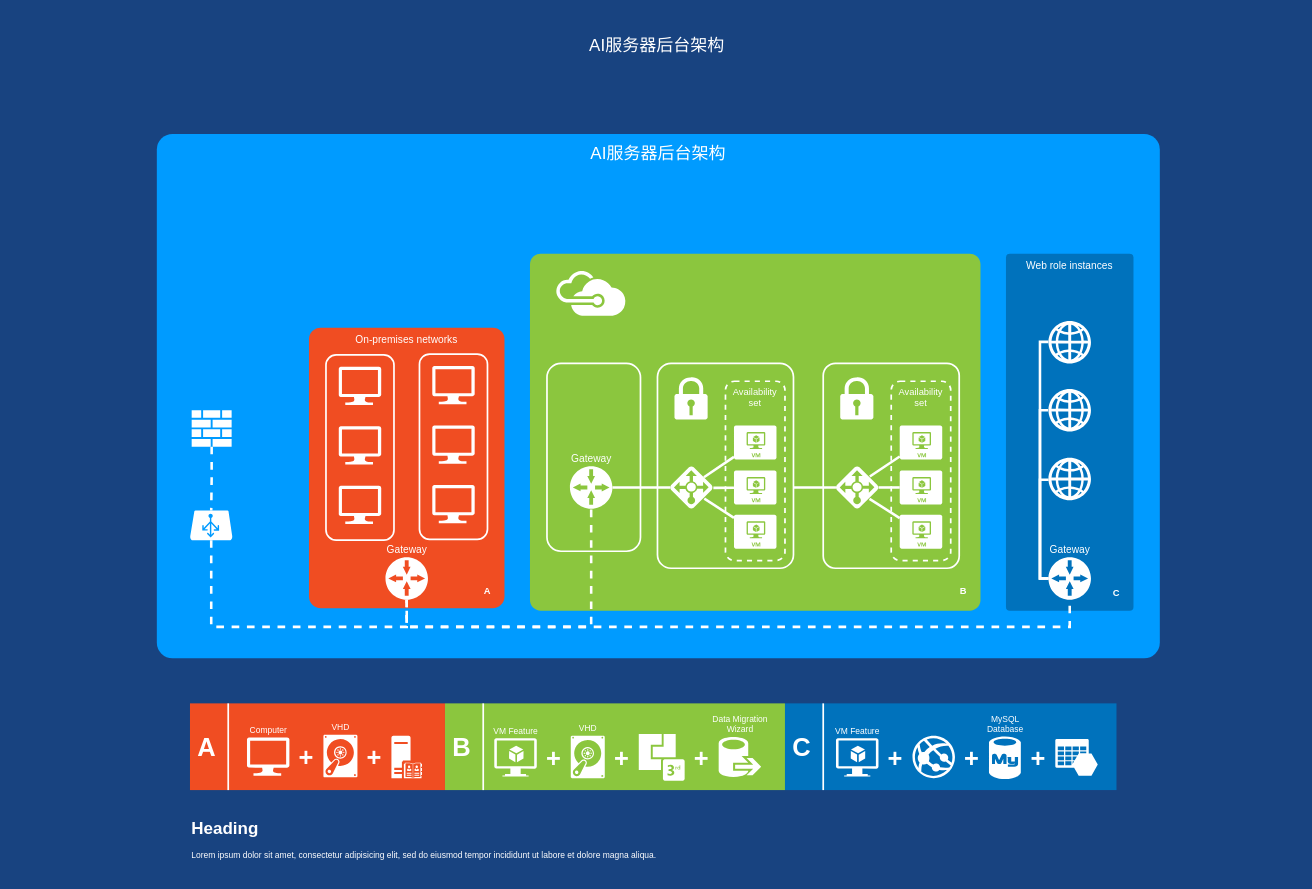
Image size: 1312x889. Some labels were removed from this diagram. Here are the shapes that lost their labels. From the top down, the centre of each, then its label:
At (x=590, y=292): "Azure Vnet".
At (x=211, y=428): "Firewall".
At (x=211, y=525): "Windows Azure Load Balancer".
At (x=406, y=756): "Server Directory".
At (x=661, y=757): "3rd Party Integration".
At (x=933, y=756): "Azure Website".
At (x=1076, y=757): "Azure Storage".
